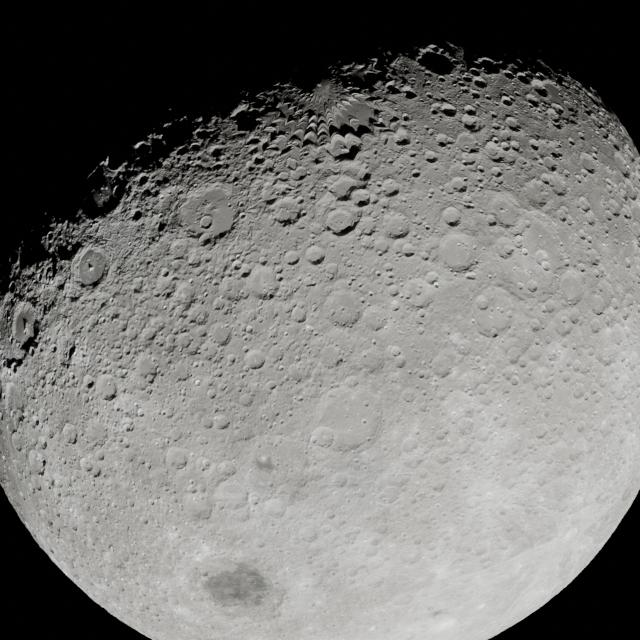crater: (307, 384, 382, 454), (480, 493, 544, 552), (467, 286, 518, 339), (152, 183, 193, 223), (257, 176, 301, 210), (321, 288, 359, 326), (437, 232, 475, 269), (211, 478, 246, 513), (243, 264, 278, 298), (486, 192, 522, 225), (416, 47, 457, 75), (223, 412, 258, 443), (359, 304, 392, 334), (326, 132, 362, 158), (271, 196, 303, 225), (522, 178, 554, 207), (532, 78, 564, 107), (324, 206, 357, 234), (409, 279, 440, 308), (181, 491, 211, 520), (602, 322, 630, 353), (558, 270, 585, 302), (335, 158, 367, 184), (383, 211, 411, 238), (538, 171, 568, 196), (592, 279, 616, 310), (328, 174, 359, 198), (166, 360, 193, 386), (94, 374, 119, 402), (308, 426, 336, 451), (84, 418, 108, 445), (316, 344, 342, 368), (456, 369, 482, 393), (5, 382, 24, 414), (493, 237, 518, 261), (209, 323, 234, 346), (165, 446, 190, 469), (262, 496, 288, 518), (172, 282, 196, 305), (430, 353, 454, 376), (454, 131, 480, 152), (135, 355, 157, 378), (474, 56, 502, 74), (168, 238, 190, 260), (243, 349, 266, 370), (155, 271, 177, 292), (612, 150, 631, 174), (484, 140, 506, 160), (28, 449, 46, 473), (441, 206, 462, 226), (285, 362, 306, 382), (600, 415, 620, 436), (454, 417, 474, 437), (216, 460, 237, 479), (305, 245, 326, 264), (554, 318, 574, 337), (501, 365, 521, 384), (174, 333, 194, 352), (350, 188, 371, 206), (447, 176, 469, 193), (460, 113, 482, 130), (384, 344, 404, 362), (380, 178, 400, 196), (207, 143, 227, 161), (62, 423, 79, 444), (526, 344, 545, 362), (393, 127, 412, 145), (379, 489, 399, 506), (580, 152, 597, 172), (302, 128, 320, 146), (400, 436, 419, 453), (140, 326, 159, 343), (289, 165, 308, 182), (212, 414, 230, 431), (429, 476, 447, 493), (267, 345, 284, 363), (372, 237, 390, 254), (589, 294, 605, 313), (323, 260, 339, 279), (282, 250, 300, 266), (439, 102, 459, 116), (195, 457, 212, 473), (291, 306, 307, 323), (401, 388, 417, 404), (534, 250, 550, 266), (577, 196, 592, 213), (607, 198, 621, 216), (195, 126, 213, 140), (332, 473, 348, 488), (434, 133, 452, 146), (472, 76, 488, 90), (80, 457, 94, 473), (401, 242, 417, 256), (504, 116, 520, 130), (401, 87, 418, 100), (11, 432, 23, 450), (374, 522, 389, 536), (590, 318, 604, 333), (534, 425, 548, 439), (120, 418, 134, 432), (475, 295, 489, 309), (199, 215, 213, 229), (349, 118, 363, 132), (424, 271, 439, 284), (572, 386, 586, 399), (238, 393, 252, 406), (526, 279, 539, 293), (423, 150, 438, 162), (345, 376, 359, 388), (90, 463, 102, 477), (463, 104, 478, 115), (163, 406, 175, 419), (52, 476, 65, 488), (501, 95, 515, 106), (226, 354, 238, 366), (265, 381, 277, 392), (206, 388, 217, 399), (411, 168, 422, 178), (136, 407, 145, 417), (625, 257, 633, 268), (238, 212, 247, 221), (86, 379, 94, 389), (613, 142, 621, 152), (624, 211, 632, 220)
rock: (229, 101, 254, 122), (132, 138, 155, 158), (254, 453, 274, 471), (111, 183, 124, 200), (349, 62, 367, 74), (66, 343, 77, 361), (430, 607, 444, 619), (156, 220, 168, 233), (131, 209, 143, 221), (22, 316, 28, 333), (12, 362, 20, 374), (87, 262, 94, 270)
